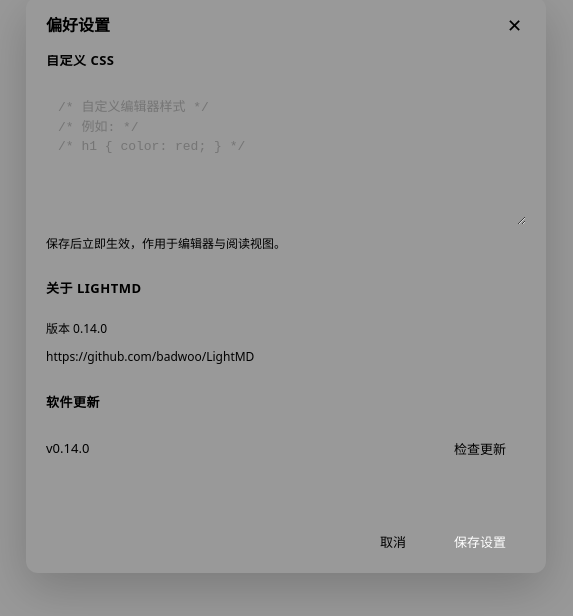
v0.14.0 需求1：设置里「软件更新」区 › 网络不可达 → 显示「暂时无法检查更新（网络不可用）」，且**不**显示「已是最新版本」
The width and height of the screenshot is (573, 616).
(page scrolled)
What coordinates should you click on to do the following:
click the button with test id "update-check-btn"
I would click on:
 (480, 448)
Its box is [434,430,526,466].
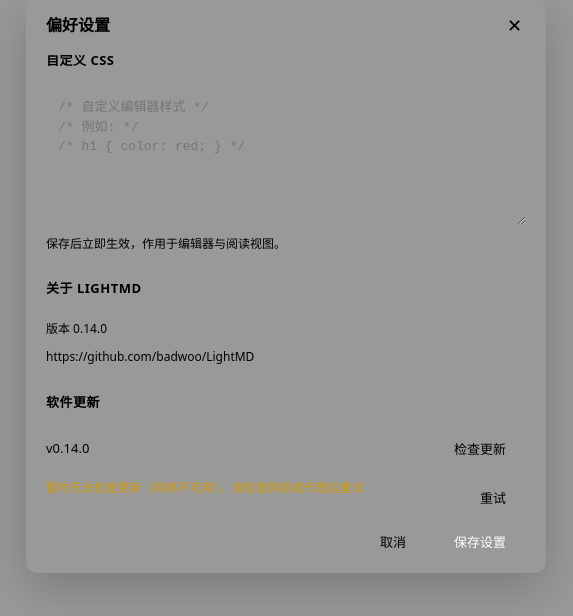
Expected: the element with test id "update-offline" shows "暂时无法检查更新（网络不可用），请检查网络或代理后重试", [46,478,364,496]
Expected: the button with test id "update-offline-retry-btn" is shown, [460,480,526,510]
